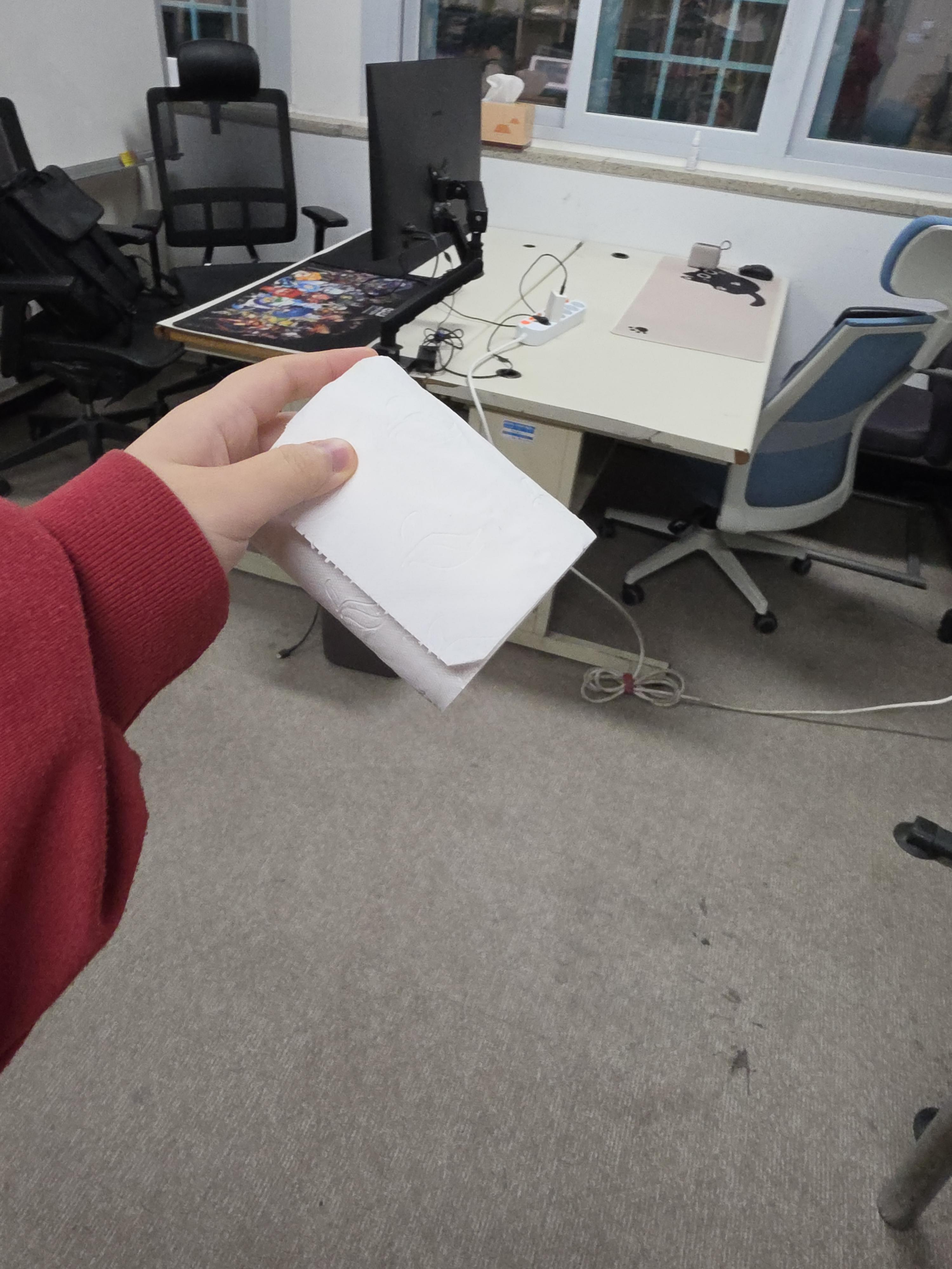tissue: (271, 355, 598, 710), (480, 73, 534, 149)
